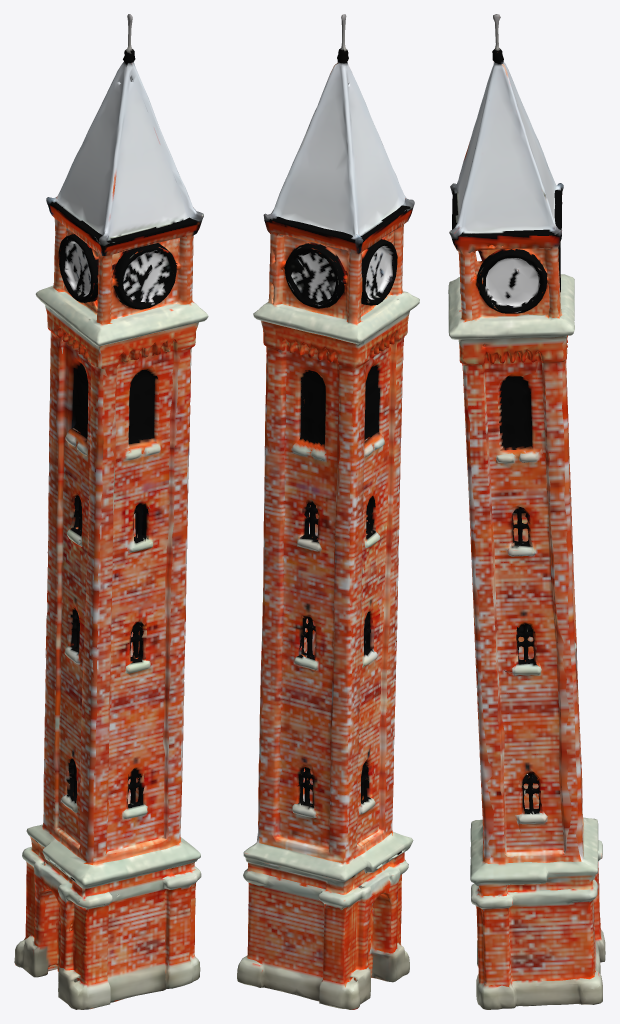
File: yd_clock_tower.glb
3 renders of one model, left to right at view 1: azimuth 30°, elevation 25°; view 2: azimuth 150°, elevation 25°; view 3: azimuth 270°, elevation 25°, orthographic. The views are drawn at different scales.
Bounding box in the file's own units: 0.1383 × 0.9967 × 0.1466.
Materials: 1 (1 with a texture image).
